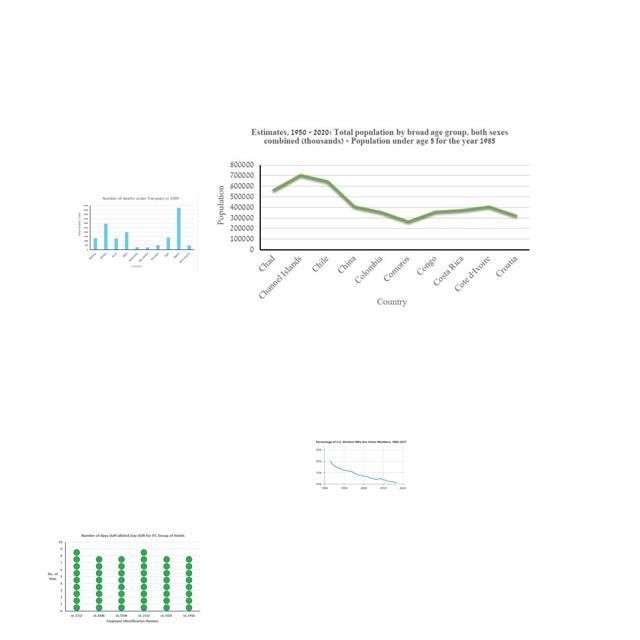Graph: (211, 126, 533, 310), (43, 530, 202, 627), (75, 194, 198, 272), (313, 440, 408, 492)
